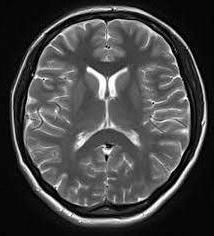Normal_Brain: (12, 1, 214, 236)
